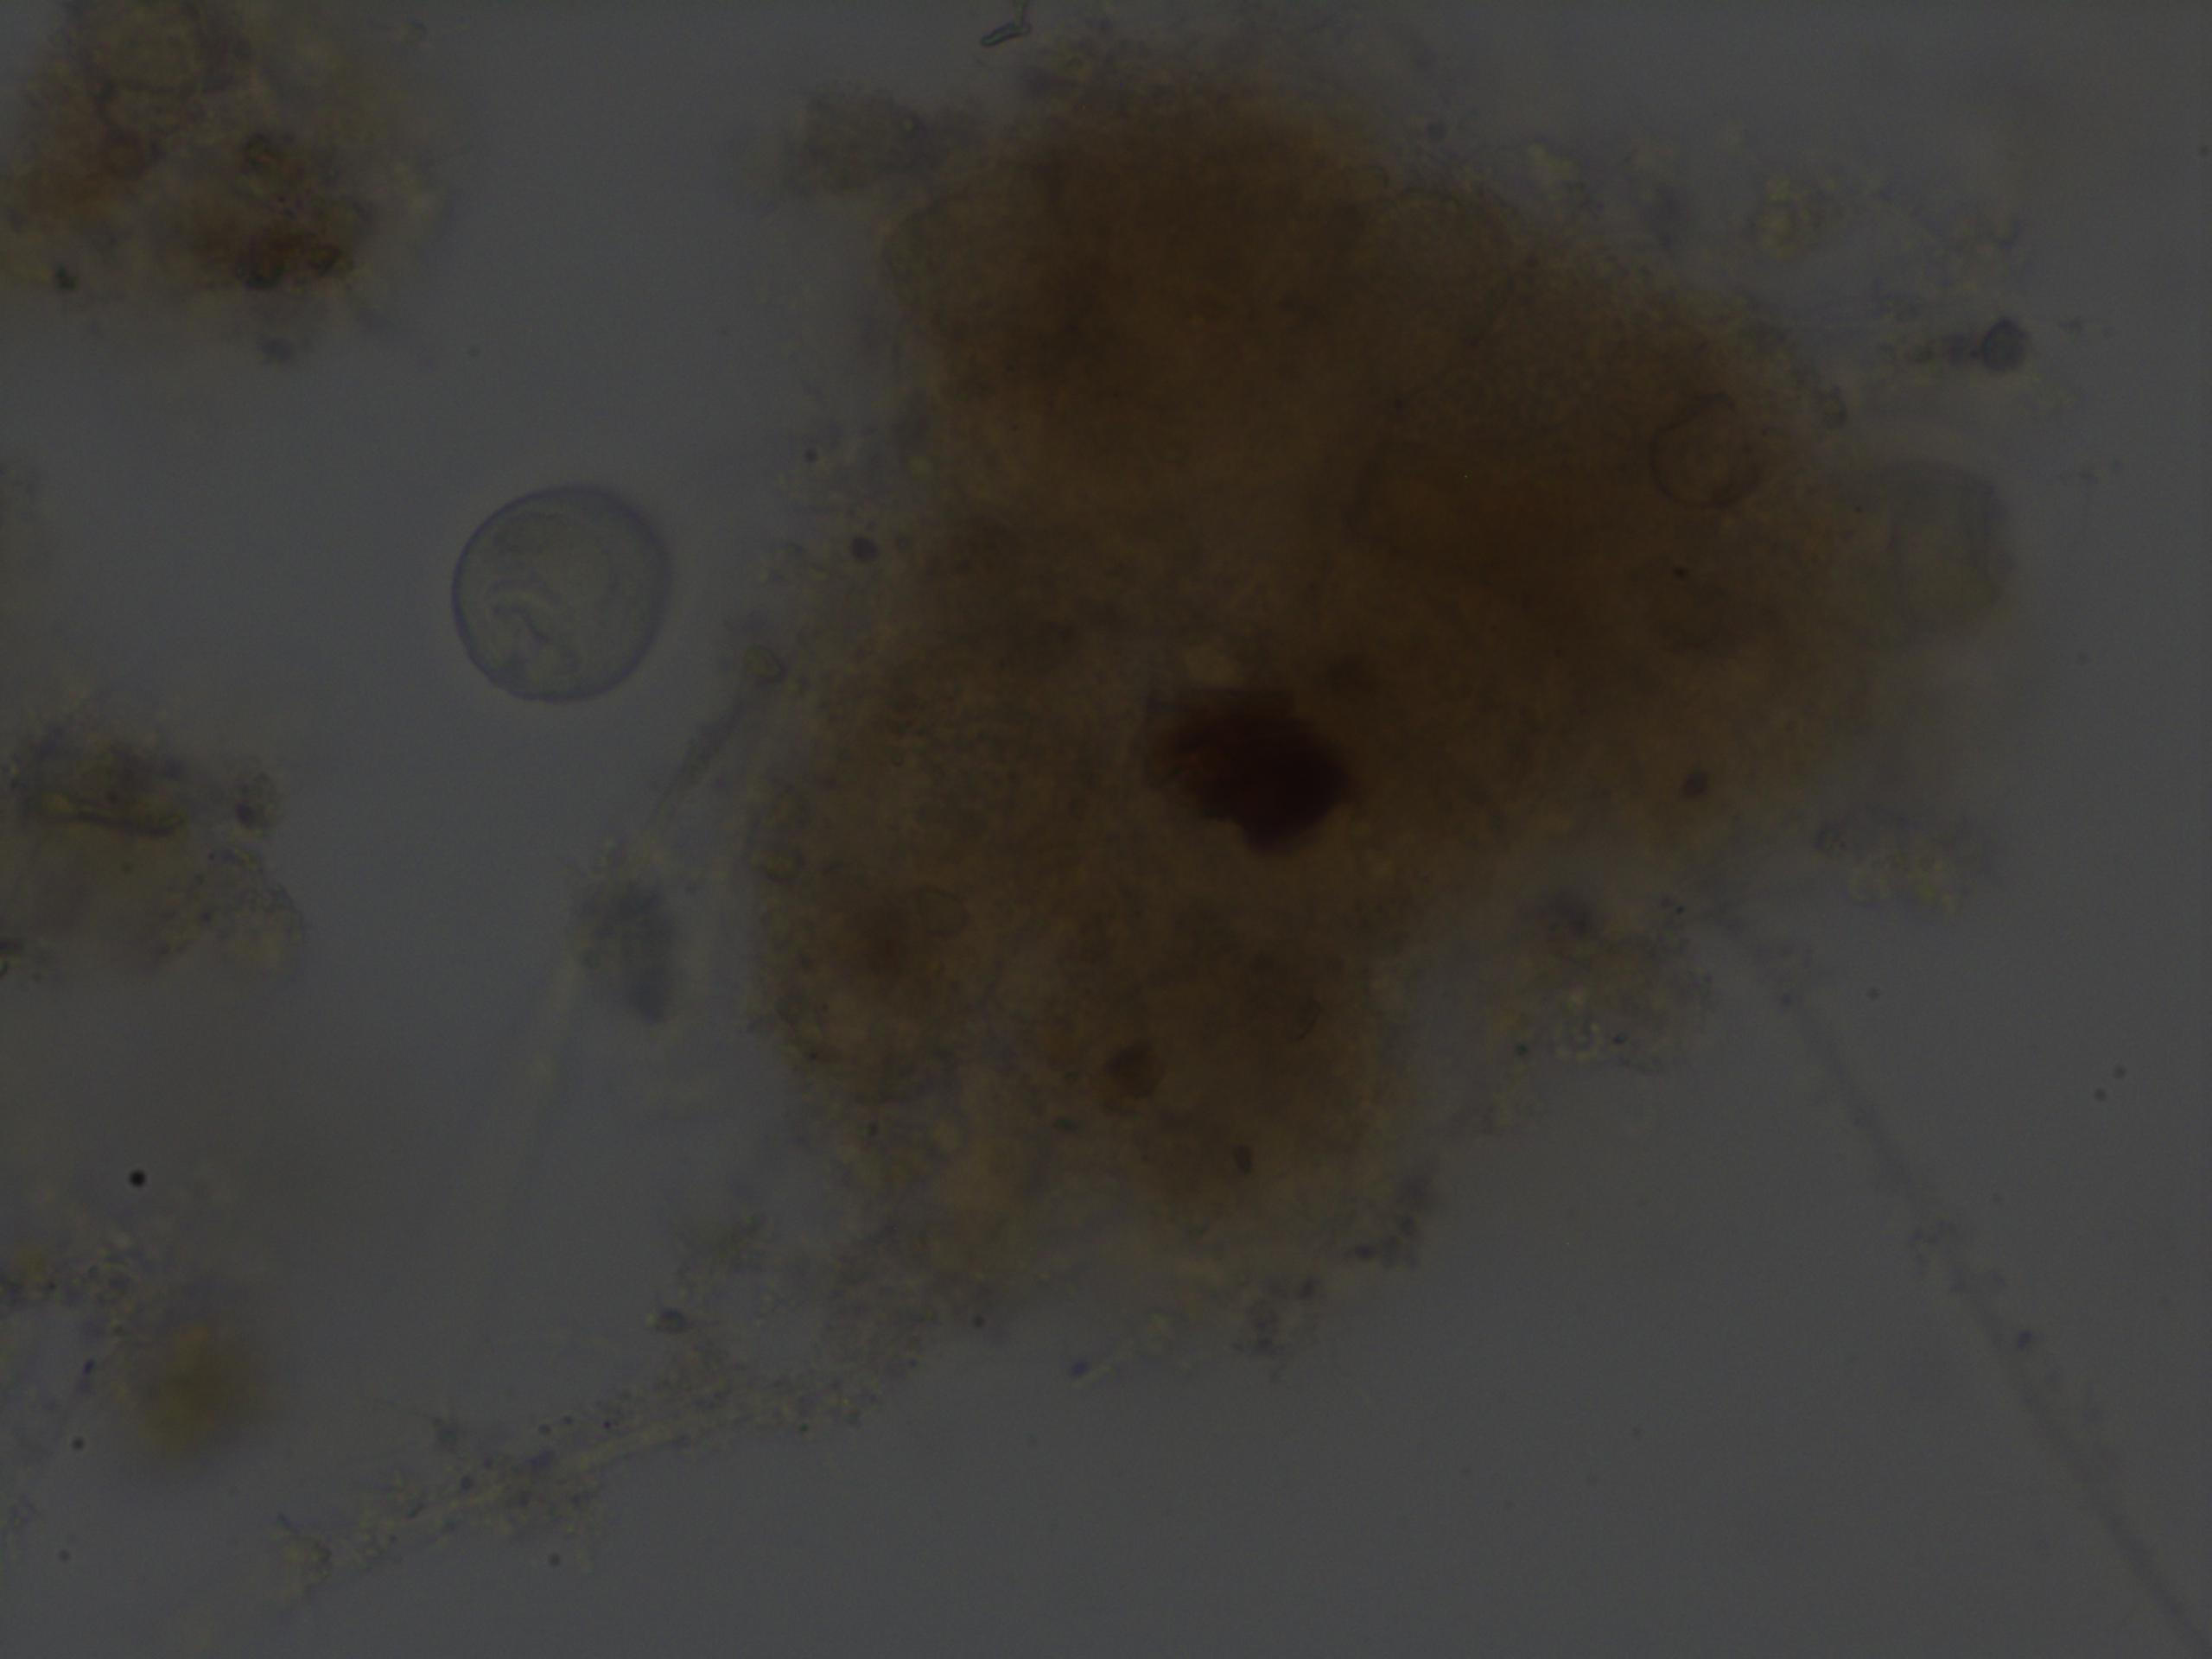filament: (1703, 904, 2212, 1659), (394, 636, 815, 1321), (247, 1382, 805, 1645)
spherical_floc: (735, 38, 1893, 1316)
